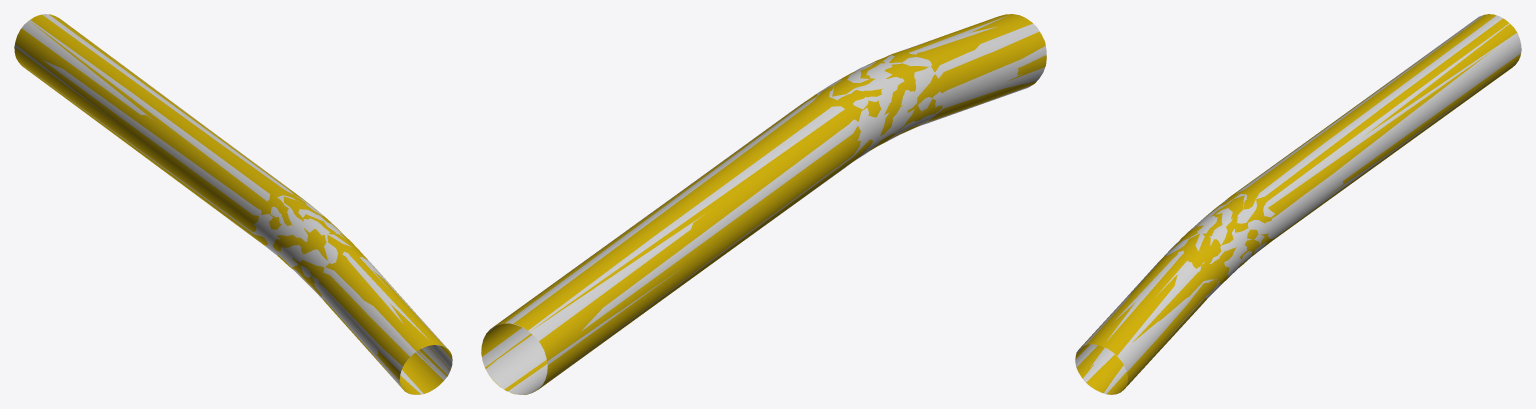
File: original-12.obj
3 views of the same model, side by side, from view 1: azimuth 30°, elevation 25°; view 2: azimuth 150°, elevation 25°; view 3: azimuth 330°, elevation 25° (orthographic). The views are drawn at different scales.
Visible parts, largest first — view 1: #ID65; view 2: #ID65; view 3: #ID65.
Boxes of the visible parts, <box> form: #ID65: <box>14,14,452,394</box>; #ID65: <box>481,14,1046,394</box>; #ID65: <box>1075,14,1521,394</box>.
Bounding box in the file's own units: 0.0303 × 0.0501 × 0.3682.
